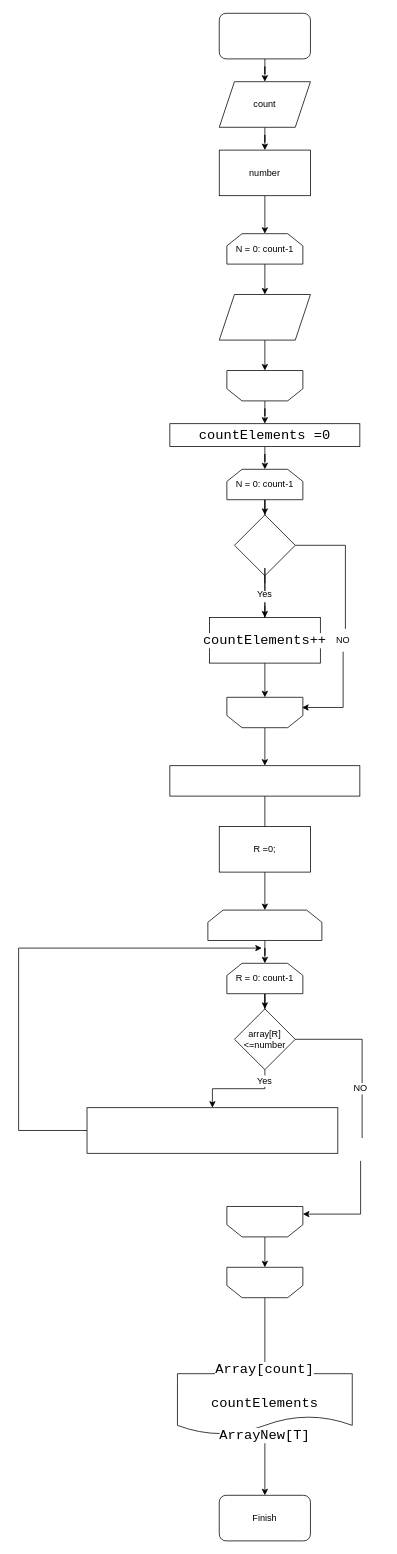
Image size: 397x1554. Some labels were removed from this diagram. The shapes that lost their labels are listed below. From the top down, each one's centre as x and y in pixels, then its label:
At [264,36]: "start".
At [264,317]: "аrray[N]".
At [264,545]: "array[n] <=number".
At [264,780]: "ArrayNew[countElements]".
At [264,924]: "T = 0: countElements -1".
At [212,1130]: "ArrayNew[T] = array[R] R=R".
